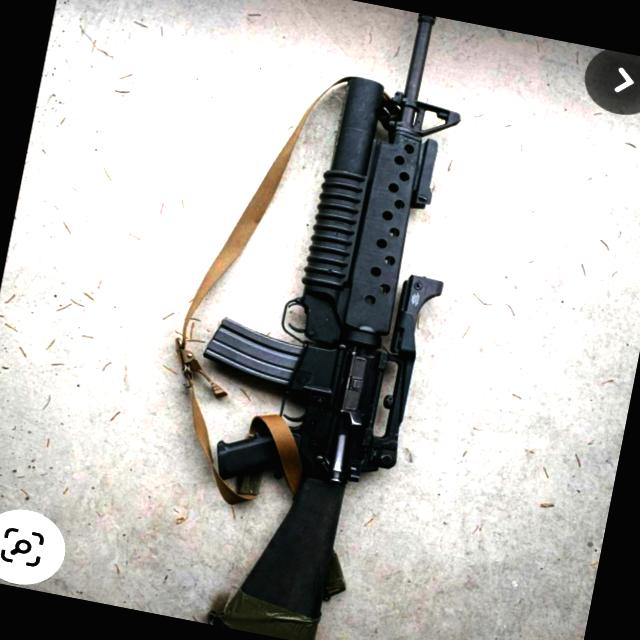m16: (130, 25, 528, 640)
